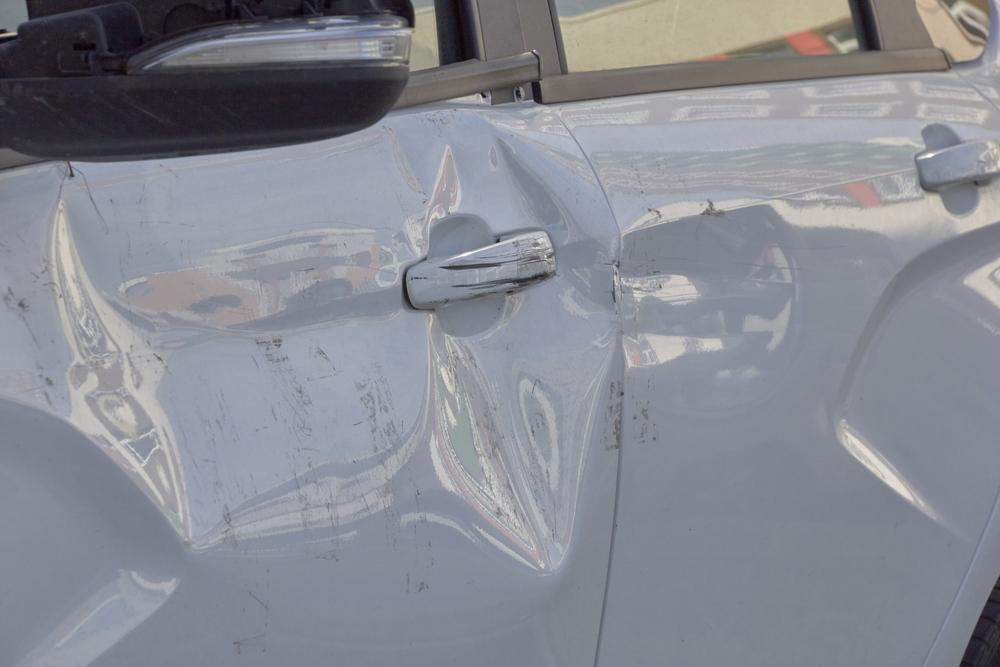dent: (52, 125, 461, 542), (426, 138, 622, 571), (617, 206, 797, 419)
